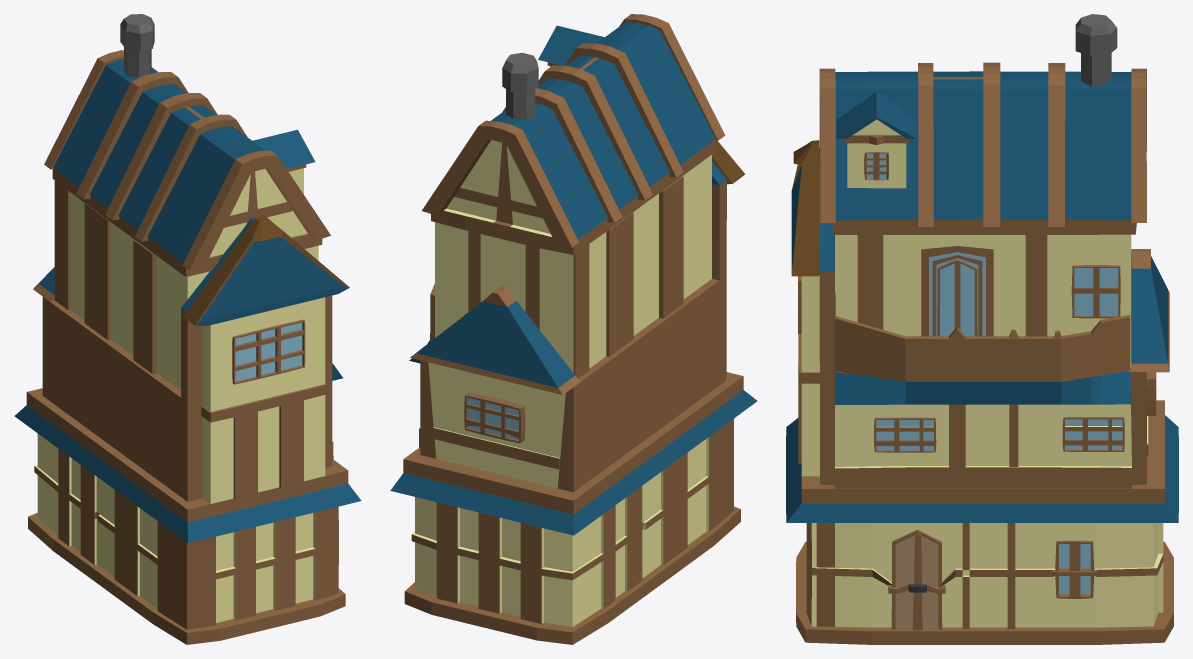
The model's file is Building_LV4_Shop_Blue.fbx.
3 views of the same model, side by side, from view 1: azimuth 30°, elevation 25°; view 2: azimuth 150°, elevation 25°; view 3: azimuth 270°, elevation 25° (orthographic). The views are drawn at different scales.
Parts seen in each view (by area): view 1: LV4_Blue; view 2: LV4_Blue; view 3: LV4_Blue.
Boxes of the visible parts, x1,y1,x2,y2 form: LV4_Blue: (14, 14, 361, 644); LV4_Blue: (390, 14, 757, 644); LV4_Blue: (786, 14, 1178, 644).
Size of the model in its own units: 220 by 609 by 375.
Materials: 1 (1 with a texture image).
